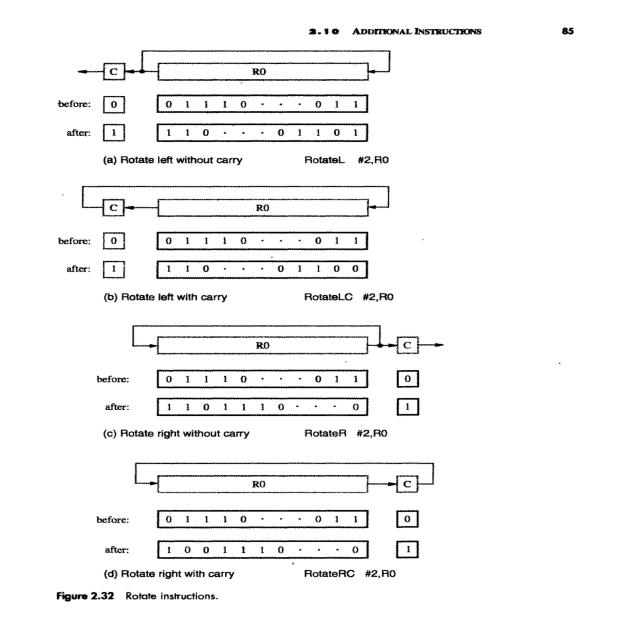diagram: (62, 50, 515, 583)
